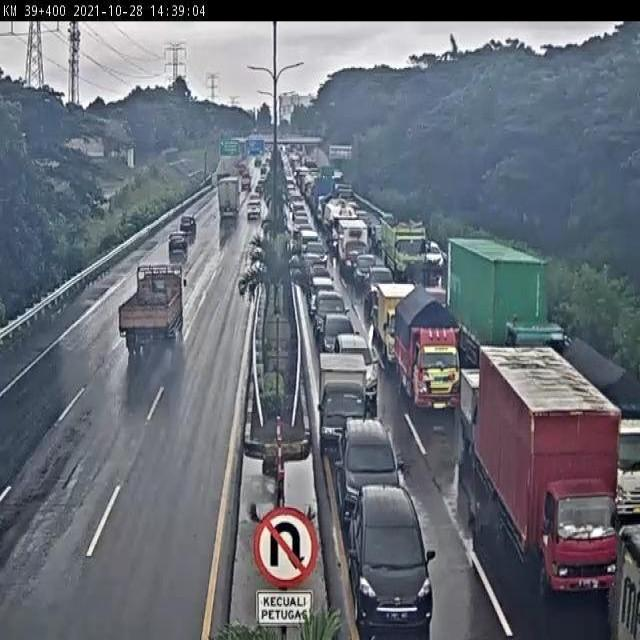big truck: (478, 343, 624, 601), (449, 235, 578, 382), (382, 216, 428, 291), (212, 162, 247, 218)
car: (343, 481, 441, 639), (338, 411, 407, 521), (337, 331, 383, 401), (319, 310, 360, 362), (365, 267, 397, 316), (316, 291, 348, 336), (156, 229, 193, 263), (176, 203, 204, 244), (353, 253, 380, 290), (422, 235, 446, 273), (244, 191, 265, 220)
small truck: (395, 287, 468, 421), (102, 263, 205, 357), (315, 349, 374, 460), (373, 276, 421, 365), (460, 365, 491, 460), (337, 216, 374, 280)
